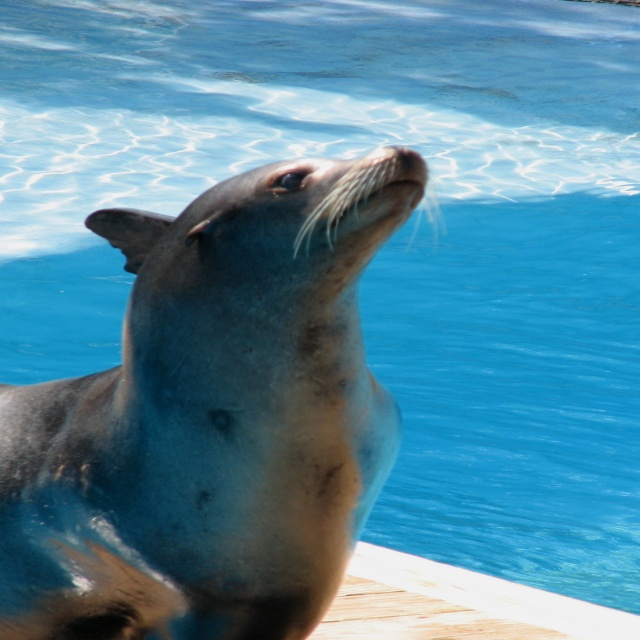Harbor seal: (16, 124, 427, 640)
